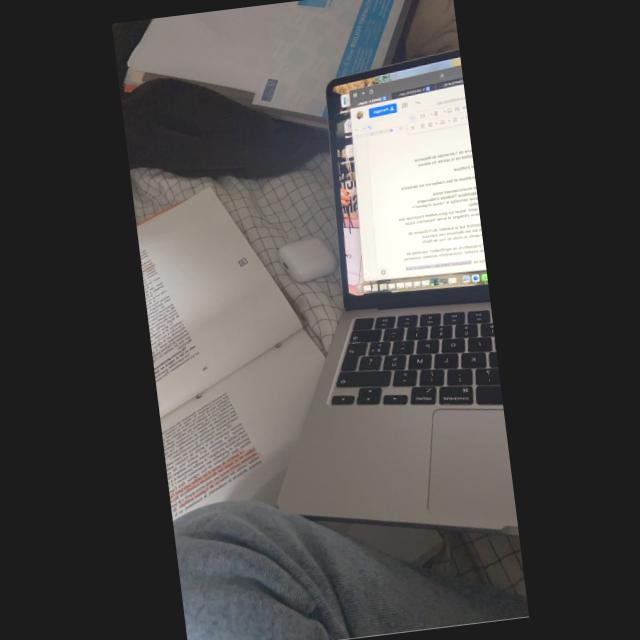laptop: (279, 51, 519, 535), (420, 429, 422, 432)
